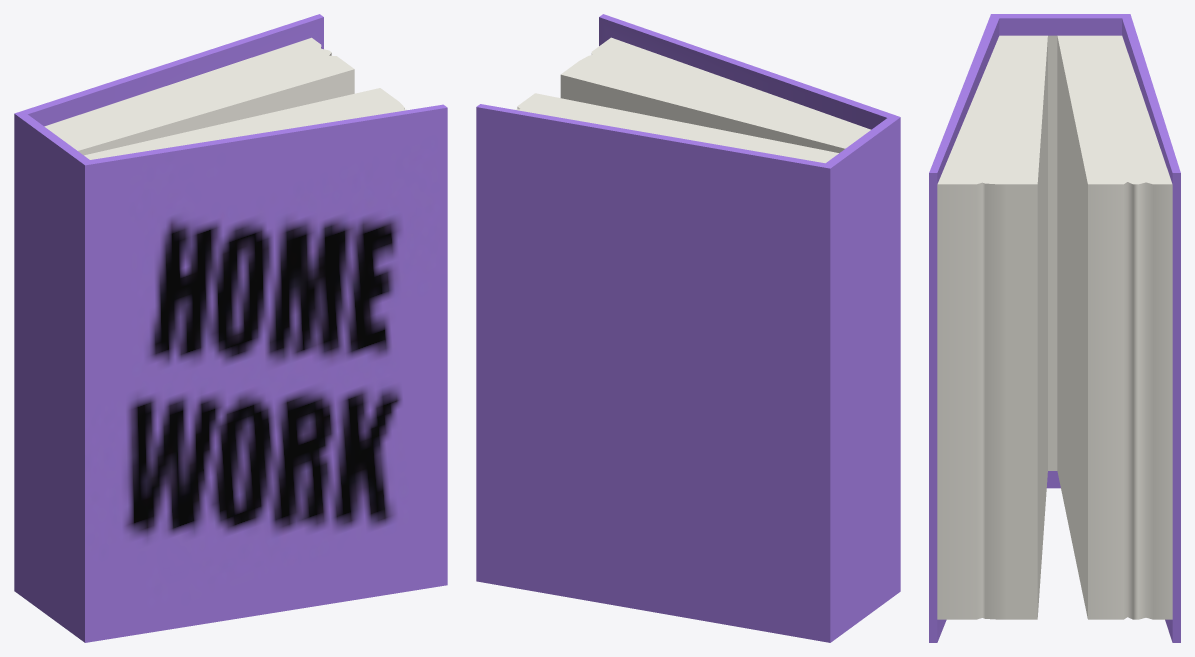
File: Book.fbx
3 views of the same model, side by side, from view 1: azimuth 30°, elevation 25°; view 2: azimuth 150°, elevation 25°; view 3: azimuth 270°, elevation 25° (orthographic).
Visible parts, largest first — view 1: shu; view 2: shu; view 3: shu.
Part boxes in pixels (bbox=[...]): shu: bbox=[14, 14, 447, 642]; shu: bbox=[476, 14, 900, 642]; shu: bbox=[929, 14, 1180, 642].
Size of the model in its own units: 10.84 by 14.94 by 7.25.
